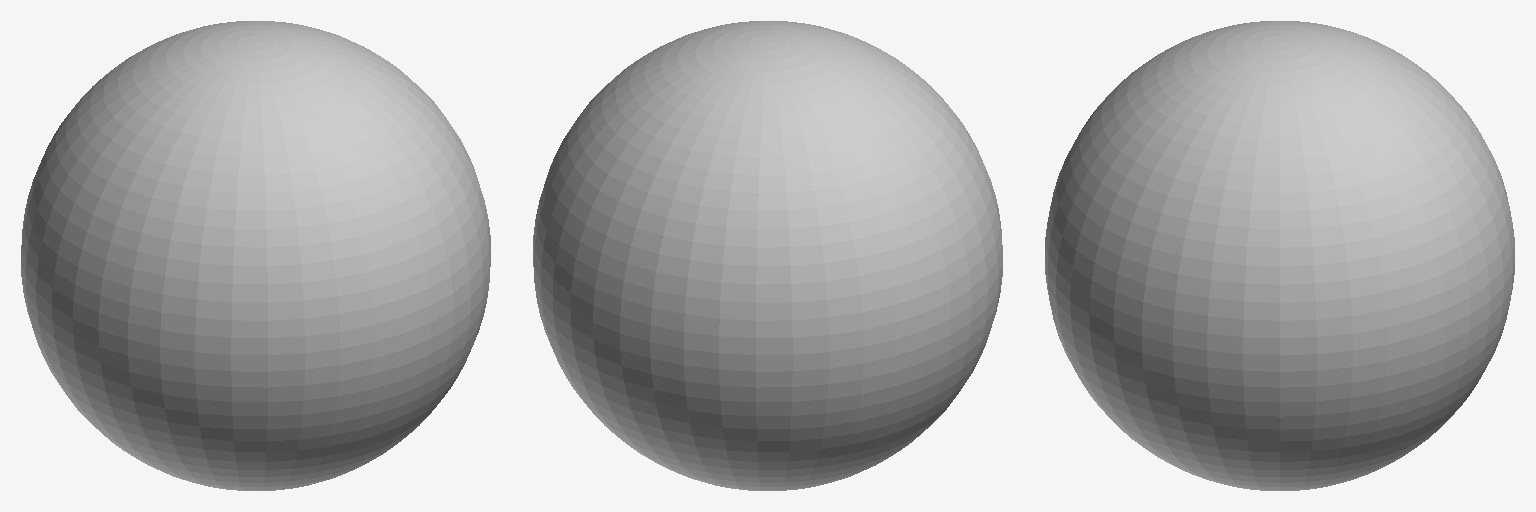
The model's file is sphere_cym.obj.
3 views of the same model, side by side, from view 1: azimuth 30°, elevation 25°; view 2: azimuth 150°, elevation 25°; view 3: azimuth 270°, elevation 25° (orthographic).
Size of the model in its own units: 2 by 2 by 2.